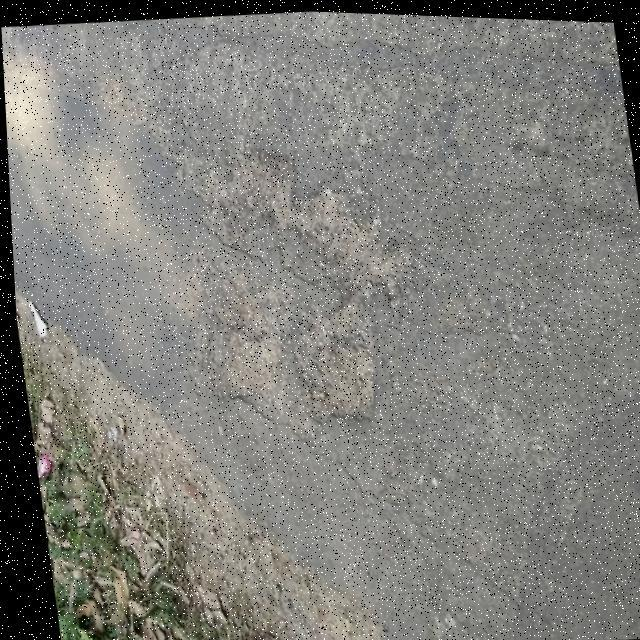pothole: (160, 152, 384, 458)
